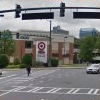crosswalk: (12, 84, 100, 94)
